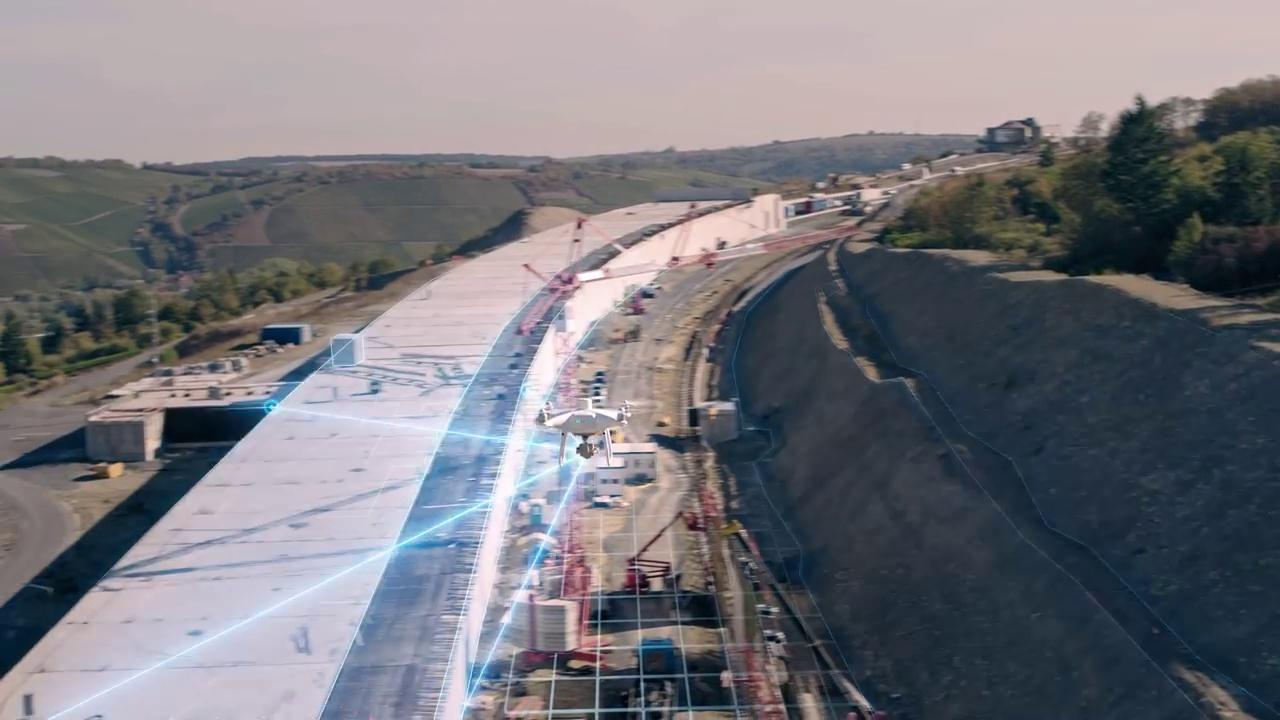drone: (528, 391, 659, 468)
